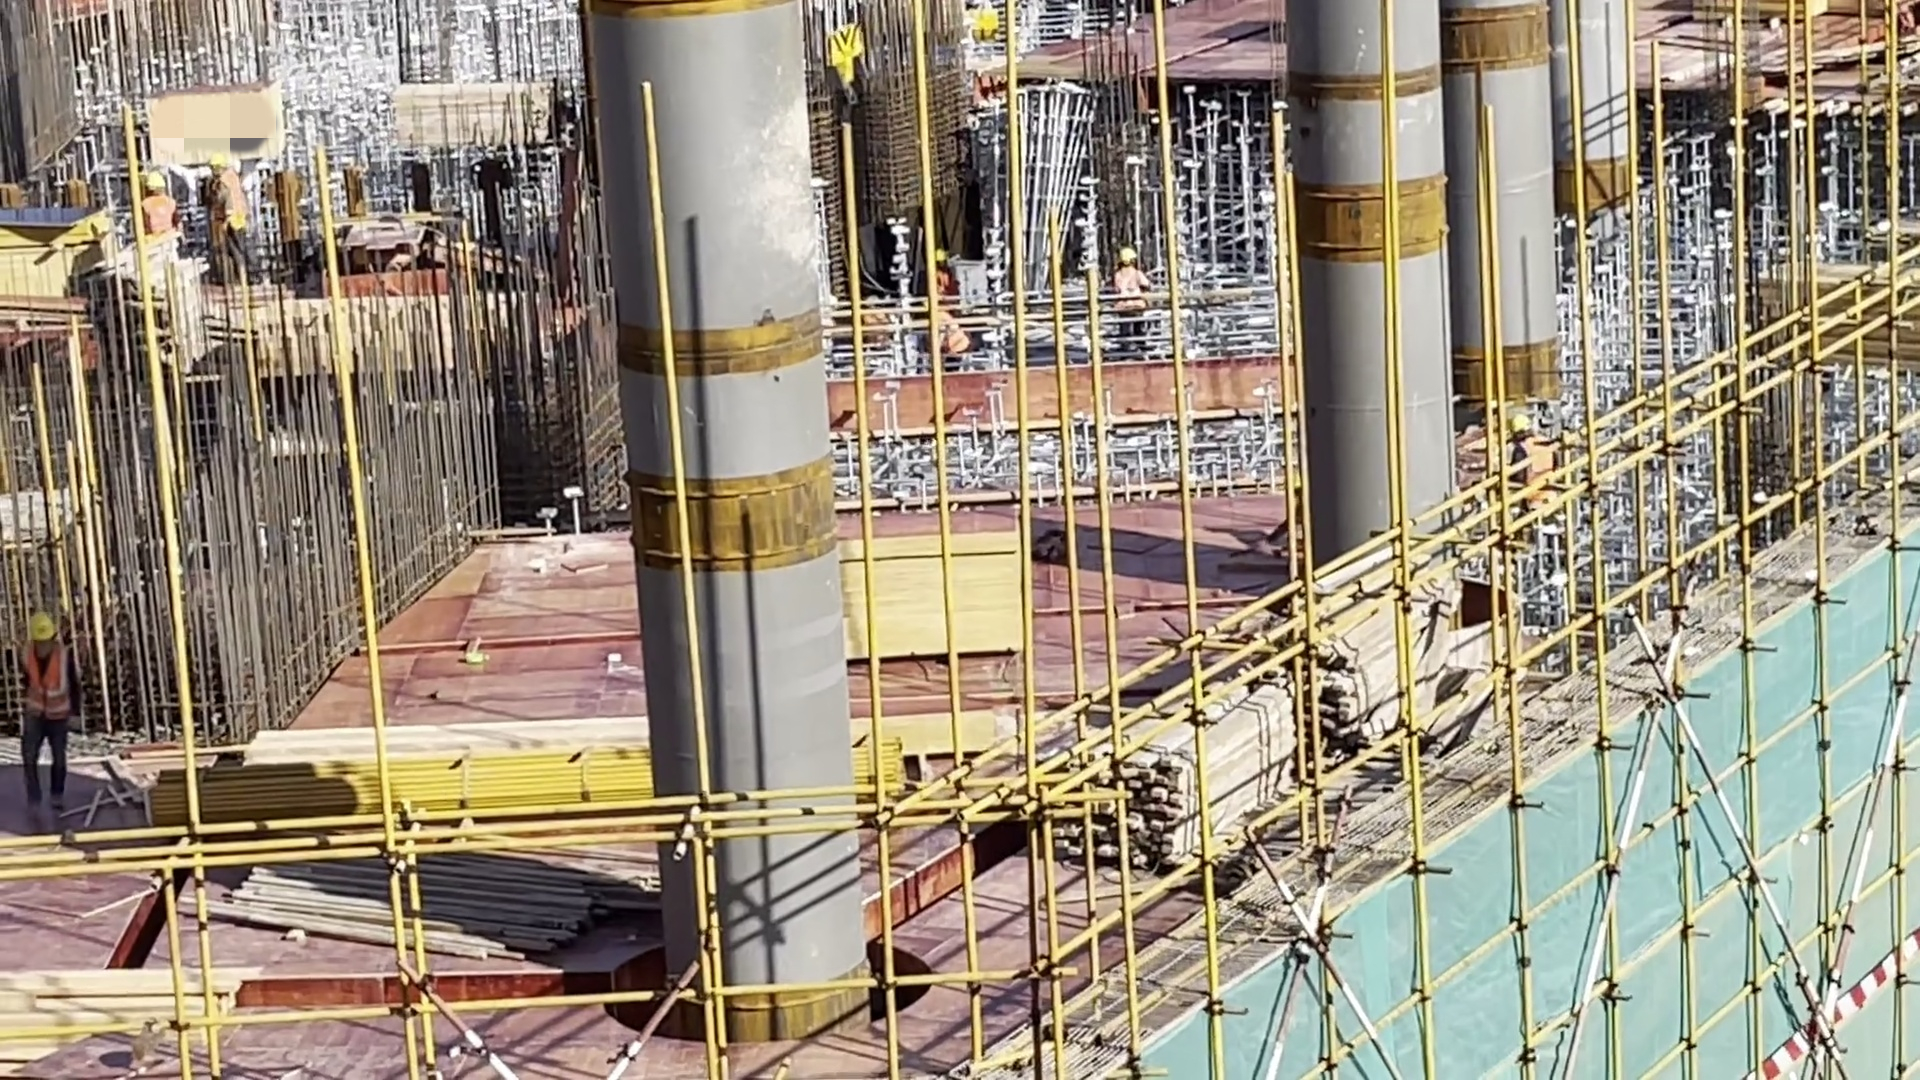helmet: (15, 609, 63, 645), (136, 172, 170, 203), (1114, 243, 1140, 272), (208, 158, 233, 183), (931, 244, 953, 272)
hook: (820, 18, 888, 109)
person: (13, 611, 72, 816), (202, 150, 267, 285), (1109, 239, 1158, 355), (125, 175, 182, 237), (920, 306, 979, 364)
vest: (21, 644, 65, 722), (1112, 267, 1144, 315)
wood: (214, 808, 622, 986), (1255, 512, 1538, 761), (1059, 653, 1318, 883)
